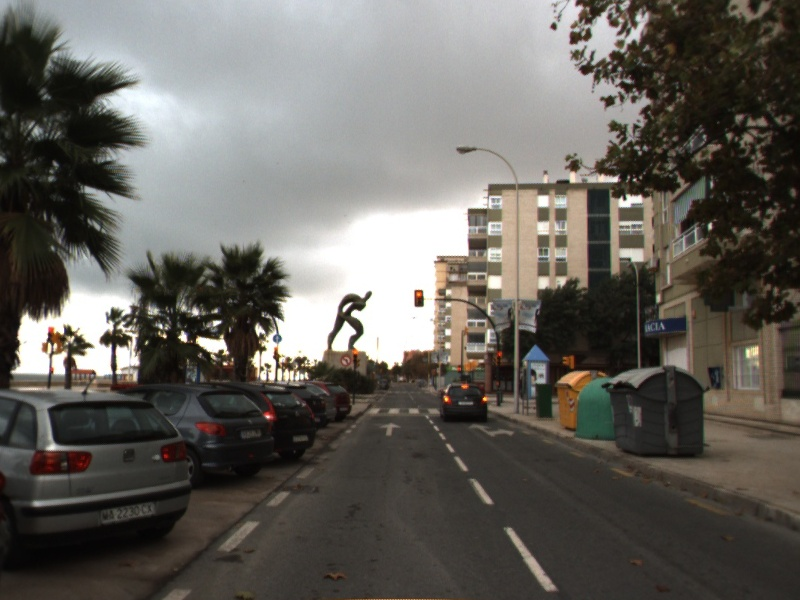STRAIGHT: (378, 421, 403, 437)
STRAIGHT_RIGHT: (466, 421, 516, 439)
